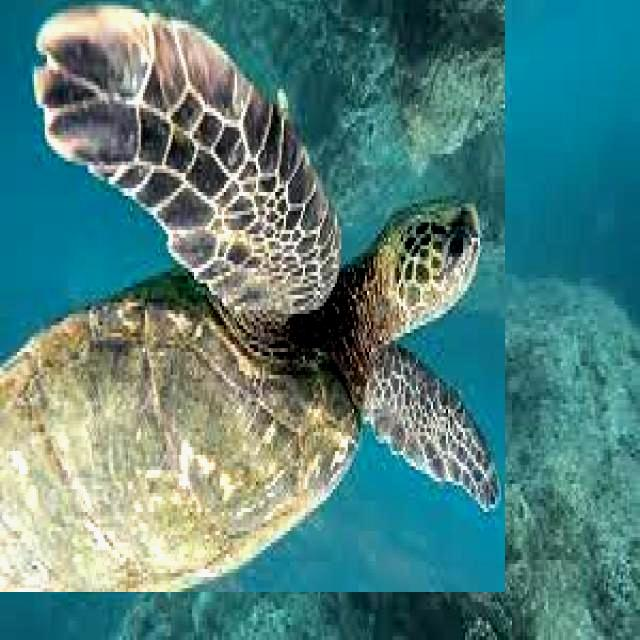Sea turtle: (0, 0, 505, 592)
